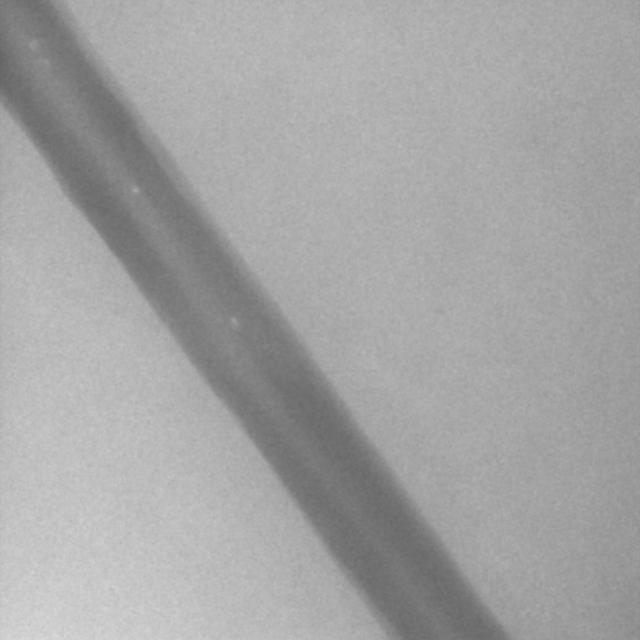air-hole: (131, 179, 143, 199), (229, 311, 240, 329), (43, 57, 53, 74), (28, 38, 40, 50)
